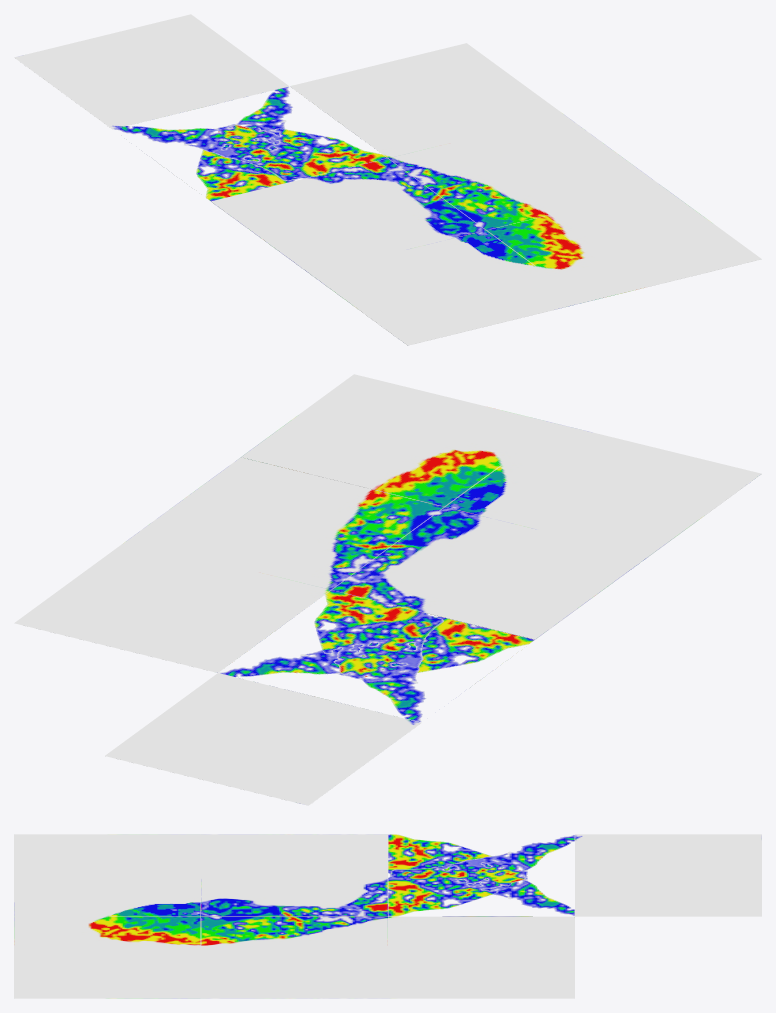
Rendered from bax.obj.
3 views of the same model, one above another, from view 1: azimuth 30°, elevation 25°; view 2: azimuth 150°, elevation 25°; view 3: azimuth 270°, elevation 25° (orthographic). The views are drawn at different scales.
Visible parts, largest first — view 1: Box112, Box111, Box113, Box114, Box117, Box110, Box116; view 2: Box113, Box111, Box112, Box114, Box117, Box110, Box116; view 3: Box110, Box111, Box112, Box113, Box114, Box117, Box116.
Boxes of the visible parts, bbox=[...] form: Box112: bbox=[309, 230, 584, 345]; Box111: bbox=[487, 187, 761, 302]; Box113: bbox=[211, 158, 485, 273]; Box114: bbox=[14, 14, 288, 129]; Box117: bbox=[290, 43, 564, 158]; Box110: bbox=[388, 115, 662, 230]; Box116: bbox=[114, 86, 386, 201]; Box113: bbox=[331, 507, 648, 639]; Box111: bbox=[241, 374, 557, 506]; Box112: bbox=[445, 424, 761, 556]; Box114: bbox=[105, 673, 421, 805]; Box117: bbox=[14, 540, 330, 672]; Box110: bbox=[128, 457, 443, 589]; Box116: bbox=[219, 590, 534, 721]; Box110: bbox=[201, 916, 387, 998]; Box111: bbox=[14, 916, 200, 998]; Box112: bbox=[14, 834, 200, 916]; Box113: bbox=[201, 834, 387, 916]; Box114: bbox=[575, 834, 761, 916]; Box117: bbox=[388, 916, 574, 998]; Box116: bbox=[388, 834, 574, 916].
Size of the model in its own units: 12844 by 5 by 24728.
